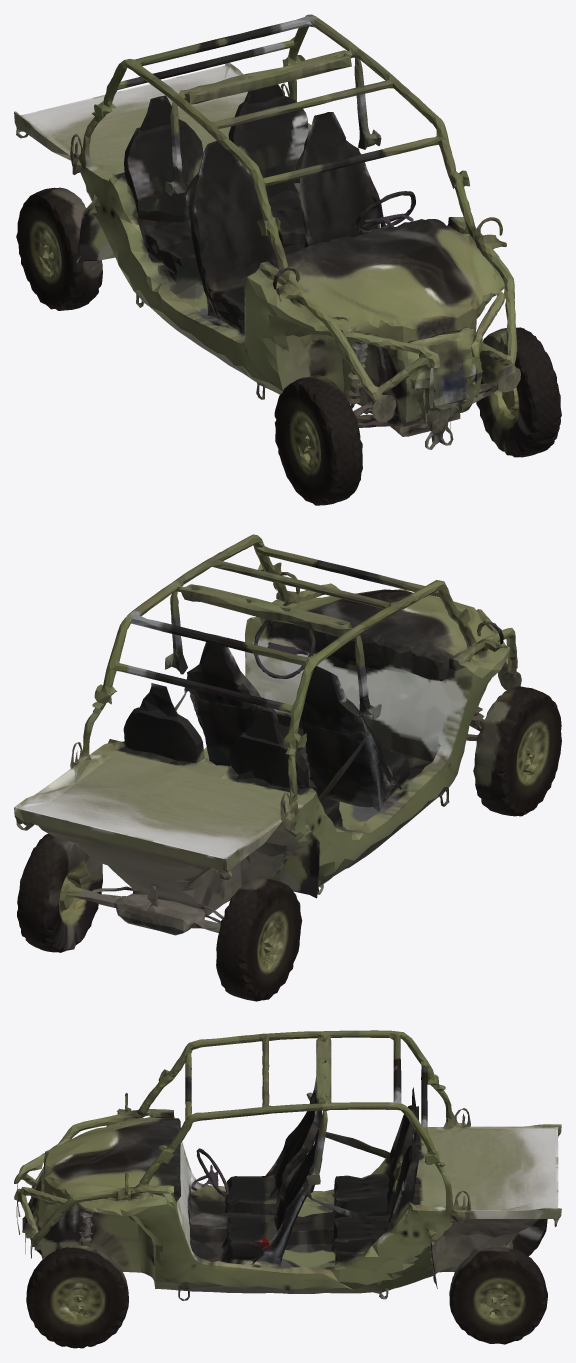
Rendered from Polaris_MRZR_Alpha.glb.
3 renders of one model, top to bottom at view 1: azimuth 30°, elevation 25°; view 2: azimuth 150°, elevation 25°; view 3: azimuth 270°, elevation 25°, orthographic. The views are drawn at different scales.
Parts seen in each view (by area): view 1: model; view 2: model; view 3: model.
Boxes of the visible parts, x1=… form: model: x1=14, y1=14, x2=561, y2=505; model: x1=14, y1=534, x2=561, y2=1001; model: x1=14, y1=1030, x2=561, y2=1348.
Size of the model in its own units: 0.7797 by 0.9132 by 1.9.
Materials: 1 (1 with a texture image).
